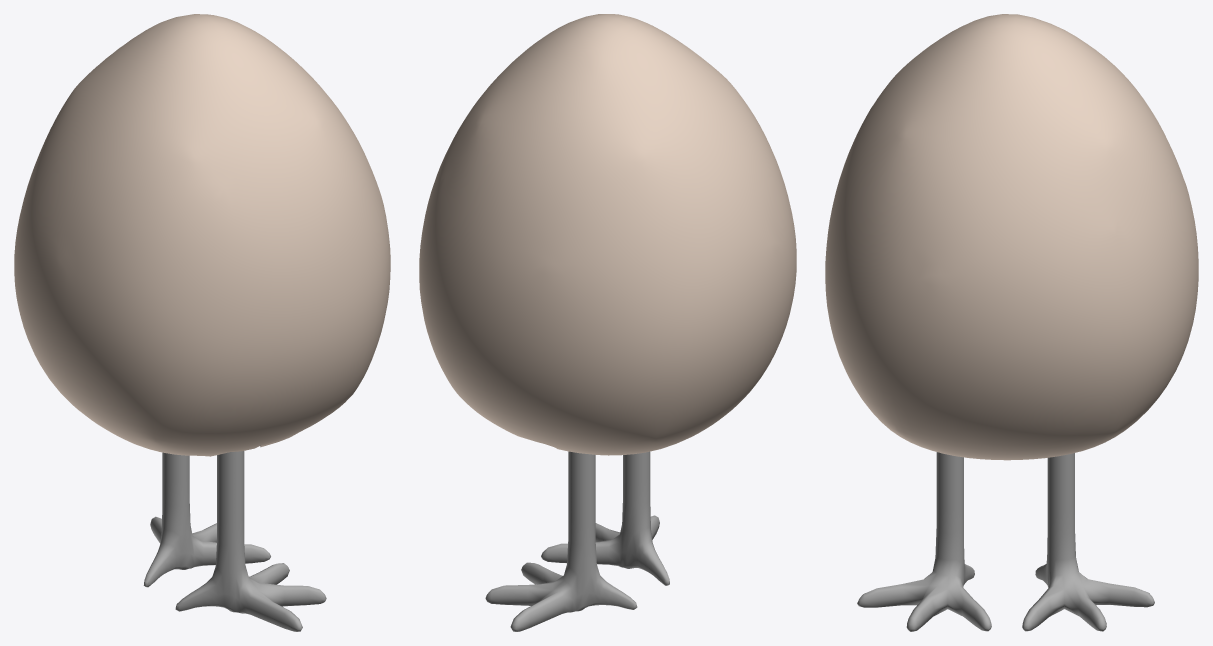
File: EggLegs.fbx
3 views of the same model, side by side, from view 1: azimuth 30°, elevation 25°; view 2: azimuth 150°, elevation 25°; view 3: azimuth 270°, elevation 25° (orthographic).
Parts seen in each view (by area): view 1: sphere-retopo 1, pCylinder3, pCylinder4; view 2: sphere-retopo 1, pCylinder4, pCylinder3; view 3: sphere-retopo 1, pCylinder3, pCylinder4.
Part boxes in pixels (bbox=[...]): sphere-retopo 1: bbox=[14, 14, 390, 456]; pCylinder3: bbox=[175, 451, 326, 631]; pCylinder4: bbox=[143, 452, 270, 587]; sphere-retopo 1: bbox=[419, 14, 796, 455]; pCylinder4: bbox=[485, 451, 637, 631]; pCylinder3: bbox=[541, 451, 669, 585]; sphere-retopo 1: bbox=[825, 14, 1198, 460]; pCylinder3: bbox=[857, 452, 991, 631]; pCylinder4: bbox=[1022, 453, 1154, 631].
Bounding box in the file's own units: 185 × 313 × 184.
